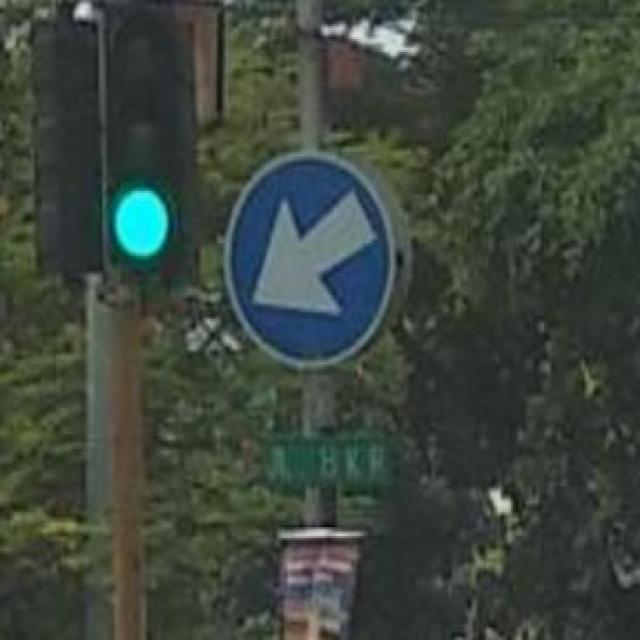enter_left_lane: (229, 154, 395, 365)
